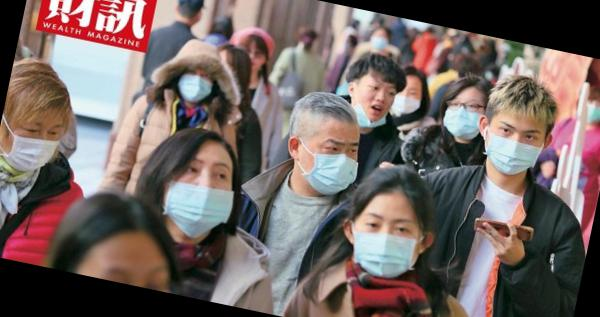mask_weared_incorrect: (349, 76, 397, 128)
with_mask: (157, 149, 242, 246), (345, 205, 427, 285), (296, 128, 365, 203), (478, 116, 547, 182), (1, 110, 63, 178), (441, 90, 487, 141), (175, 64, 218, 105), (390, 81, 425, 121), (582, 95, 600, 129)
without_mask: (239, 43, 270, 72)
